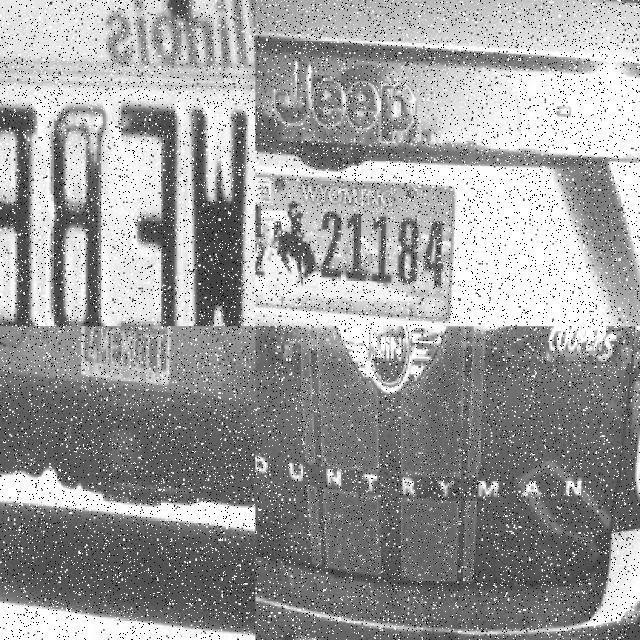LicensePlate: (0, 79, 249, 327), (254, 164, 460, 324), (78, 326, 171, 383)
